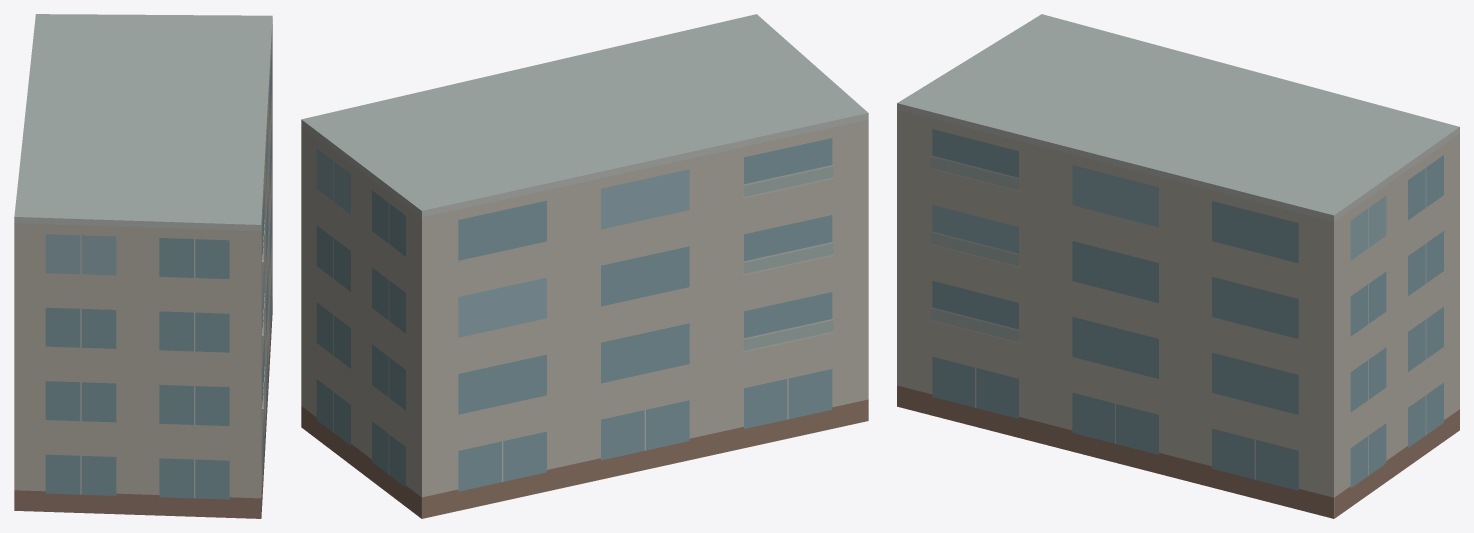
The model's file is survey-upis-33019404.glb.
3 renders of one model, left to right at view 1: azimuth 30°, elevation 25°; view 2: azimuth 150°, elevation 25°; view 3: azimuth 270°, elevation 25°, orthographic. The views are drawn at different scales.
Visible parts, largest first — view 1: survey-upis-33019404.tmp; view 2: survey-upis-33019404.tmp; view 3: survey-upis-33019404.tmp.
Boxes of the visible parts, x1,y1,x2,y2 form: survey-upis-33019404.tmp: (14,14,272,518); survey-upis-33019404.tmp: (301,14,868,518); survey-upis-33019404.tmp: (897,14,1459,518).
Bounding box in the file's own units: 16.31 × 11.45 × 19.25.
